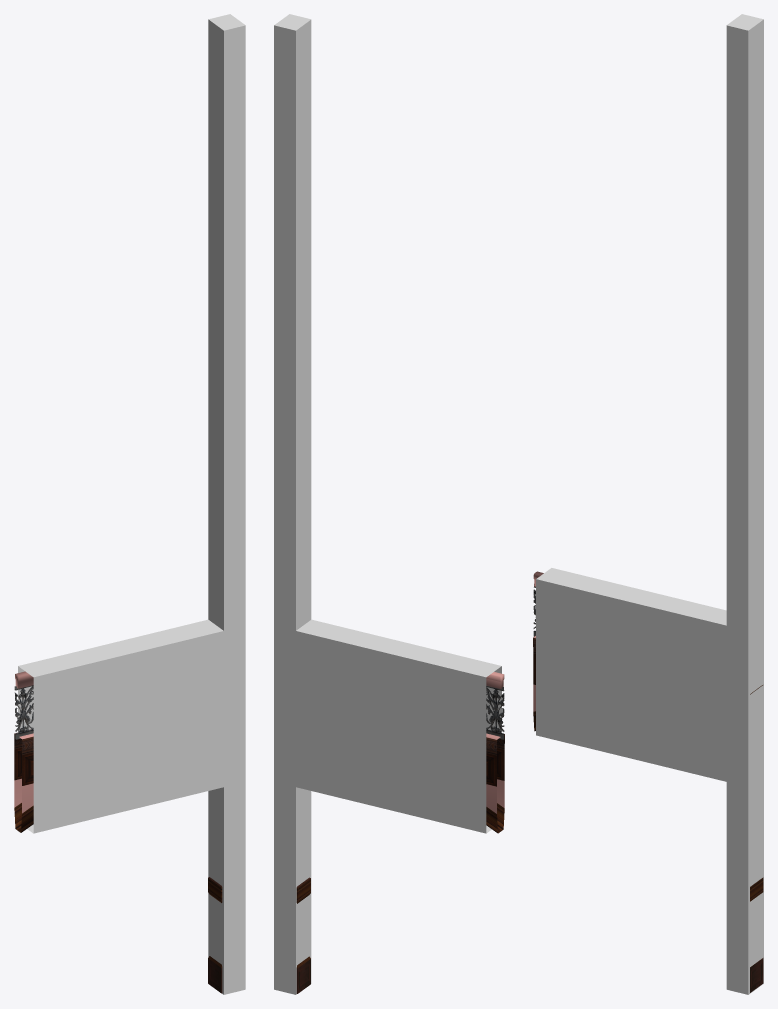
File: BalconyRail_1Pole.fbx
3 views of the same model, side by side, from view 1: azimuth 30°, elevation 25°; view 2: azimuth 150°, elevation 25°; view 3: azimuth 330°, elevation 25° (orthographic).
Visible parts, largest first — view 1: Balcony1pole_COLmesh.001, Balcony_1_Pole_LOD0.001; view 2: Balcony1pole_COLmesh.001, Balcony_1_Pole_LOD0.001; view 3: Balcony1pole_COLmesh.001, Balcony_1_Pole_LOD0.001.
Boxes of the visible parts, x1,y1,x2,y2 form: Balcony1pole_COLmesh.001: [18, 14, 245, 994]; Balcony_1_Pole_LOD0.001: [14, 671, 222, 993]; Balcony1pole_COLmesh.001: [274, 14, 501, 994]; Balcony_1_Pole_LOD0.001: [296, 672, 504, 993]; Balcony1pole_COLmesh.001: [536, 14, 763, 994]; Balcony_1_Pole_LOD0.001: [533, 571, 763, 992].
Size of the model in its own units: 358 by 1480 by 43.23.
